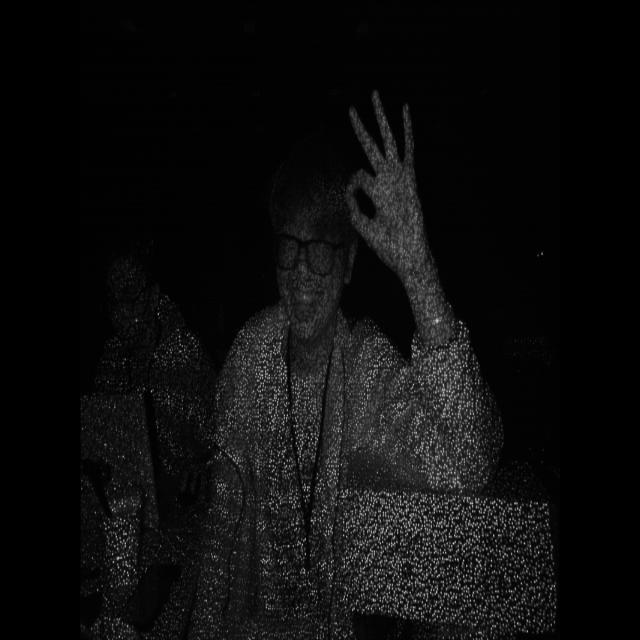F: (328, 70, 464, 271)
